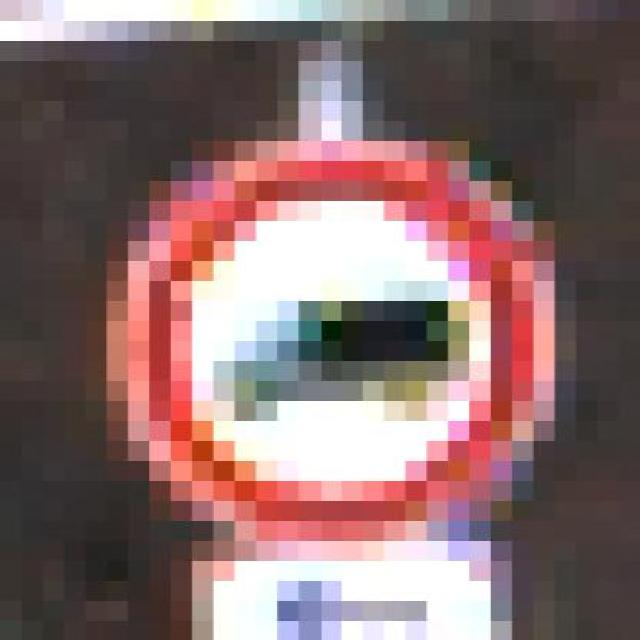Truck traffic is prohibited: (42, 120, 598, 520)
